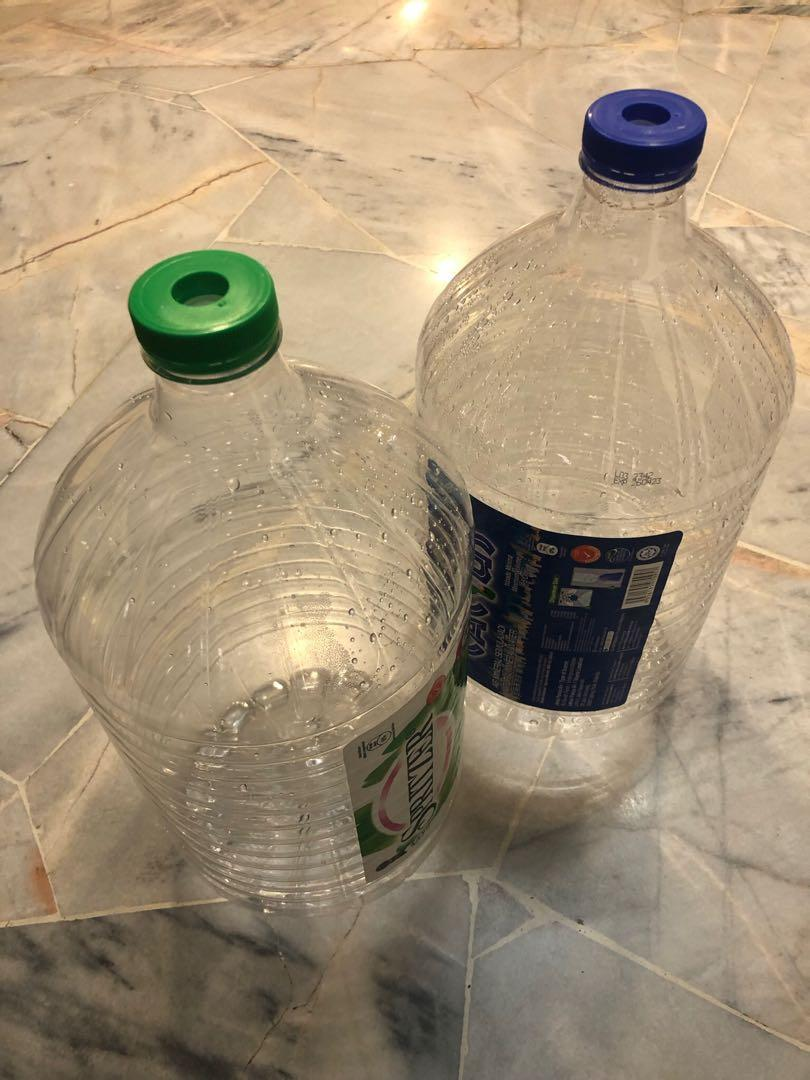plastic: (36, 249, 470, 912), (418, 89, 793, 828)
